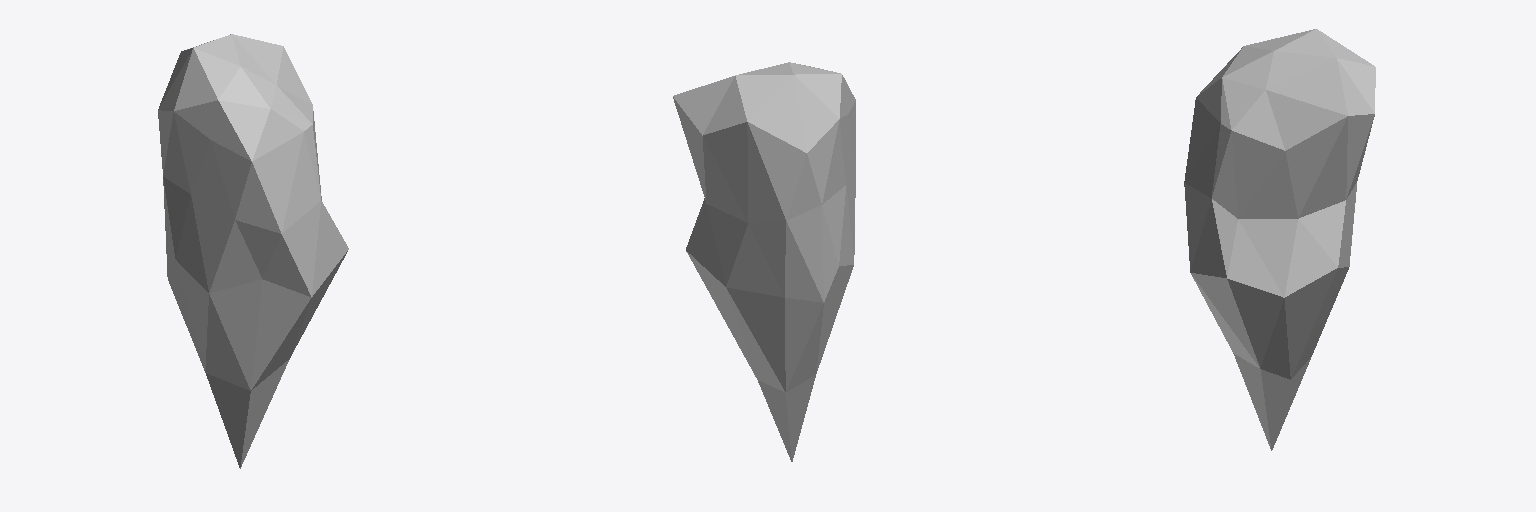
Rendered from largeRock2.obj.
3 views of the same model, side by side, from view 1: azimuth 30°, elevation 25°; view 2: azimuth 150°, elevation 25°; view 3: azimuth 270°, elevation 25° (orthographic).
Parts seen in each view (by area): view 1: Icosphere.002; view 2: Icosphere.002; view 3: Icosphere.002.
Boxes of the visible parts, x1,y1,x2,y2 form: Icosphere.002: [158, 34, 348, 468]; Icosphere.002: [673, 62, 855, 461]; Icosphere.002: [1184, 29, 1375, 450].
Size of the model in its own units: 209 by 535 by 226.